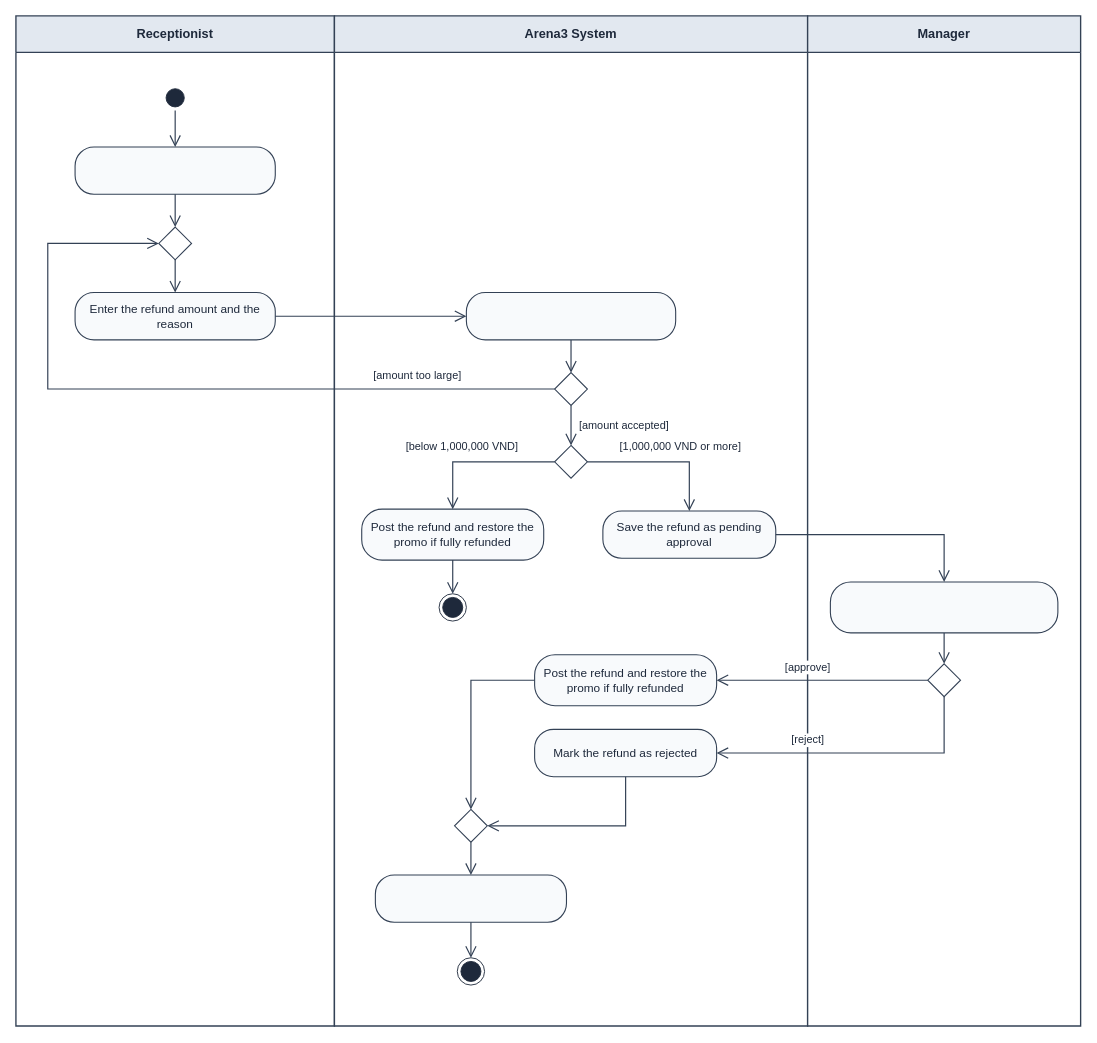
The diagram is 1097 pixels wide and 1043 high, and some of its shapes have lost their labels. The shapes that lost their labels are listed below. From the top down, each one's centre as x and y in pixels, then its label:
point 174,170: Open the payment and choose Raise a refund
point 570,316: Check the amount against what is still refundable
point 943,607: Review the pending refund (the raiser cannot decide it)
point 470,898: Write the audit entry and notify the member
